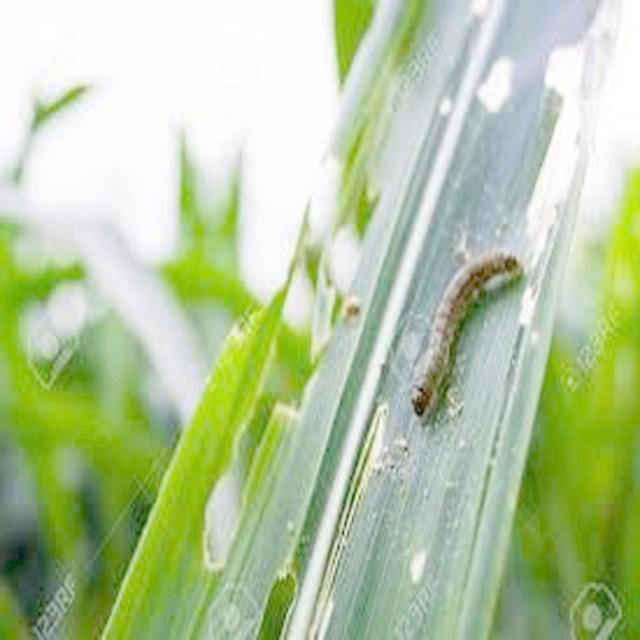Plaga: (409, 245, 529, 424)
